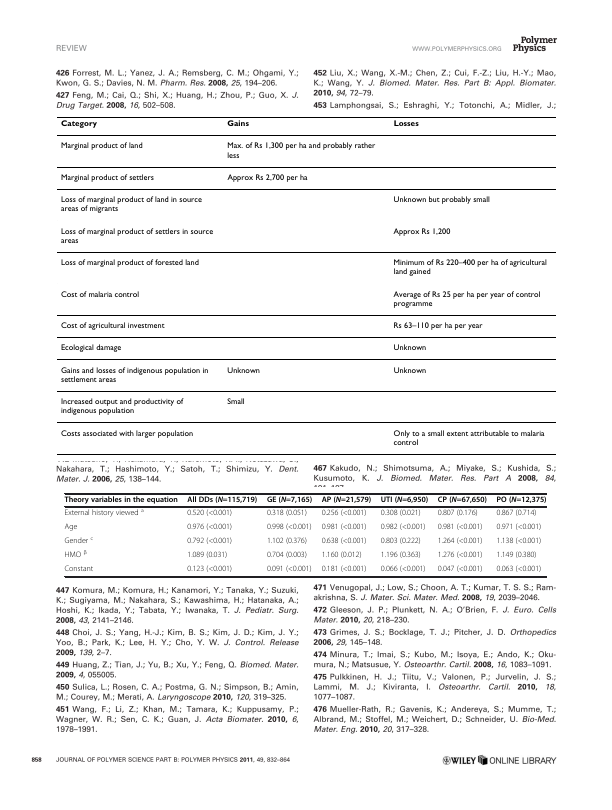borderless: (56, 115, 556, 454), (63, 492, 546, 576)
cell: (59, 227, 214, 246), (392, 258, 547, 277), (392, 429, 545, 448), (226, 142, 376, 161), (59, 366, 209, 385), (392, 290, 541, 309), (59, 195, 202, 214), (59, 397, 184, 416), (59, 258, 199, 268), (59, 429, 194, 439), (59, 321, 165, 331), (64, 496, 179, 505), (63, 507, 145, 519), (392, 195, 490, 205), (59, 173, 154, 183), (392, 321, 483, 331), (226, 173, 308, 183), (59, 290, 140, 300), (59, 142, 143, 151), (186, 496, 258, 505), (392, 227, 451, 237), (59, 344, 122, 353), (186, 509, 233, 519), (186, 523, 233, 533), (495, 523, 542, 533), (186, 537, 233, 547), (495, 537, 542, 547), (186, 565, 233, 575), (495, 565, 542, 575), (495, 496, 547, 505), (321, 509, 367, 519), (266, 523, 312, 533), (321, 523, 367, 533), (380, 523, 426, 533), (437, 523, 483, 533), (321, 537, 367, 547), (437, 537, 483, 547), (437, 551, 483, 561), (266, 565, 312, 575), (321, 565, 367, 575), (380, 565, 426, 575), (437, 565, 483, 575), (321, 496, 372, 505), (437, 496, 488, 505), (380, 496, 429, 505), (266, 496, 313, 505), (266, 509, 308, 519), (380, 509, 422, 519), (437, 509, 479, 519), (495, 509, 537, 519), (266, 537, 308, 547), (380, 537, 422, 547), (186, 551, 228, 561), (266, 551, 308, 561), (380, 551, 422, 561), (495, 551, 537, 561), (321, 551, 362, 561), (64, 535, 94, 547), (392, 366, 427, 376), (59, 120, 97, 129), (226, 366, 260, 376), (392, 344, 427, 353), (64, 565, 94, 575), (64, 549, 88, 561), (392, 120, 419, 129), (226, 120, 249, 129), (226, 397, 245, 407), (64, 523, 78, 533)
